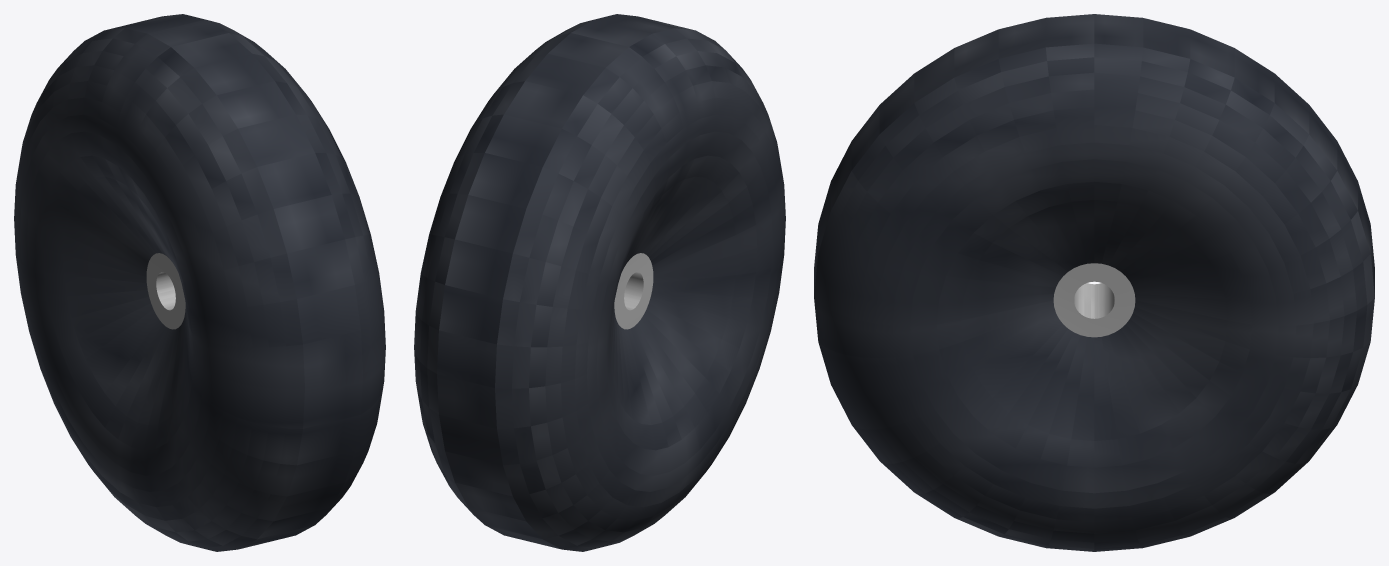
Rendered from Stuetzrad_Reifen.dae.
The picture shows the model from 3 angles, left to right: view 1: azimuth 30°, elevation 25°; view 2: azimuth 150°, elevation 25°; view 3: azimuth 270°, elevation 25°; orthographic projection. The views are drawn at different scales.
Parts seen in each view (by area): view 1: SketchUp (×3); view 2: SketchUp (×3); view 3: SketchUp (×3).
Boxes of the visible parts, x1,y1,x2,y2 form: SketchUp (×3): (14, 14, 385, 551); SketchUp (×3): (414, 14, 785, 551); SketchUp (×3): (814, 14, 1374, 551).
Bounding box in the file's own units: 0.9843 × 2.7 × 2.7.
Materials: 2 (2 with a texture image).
